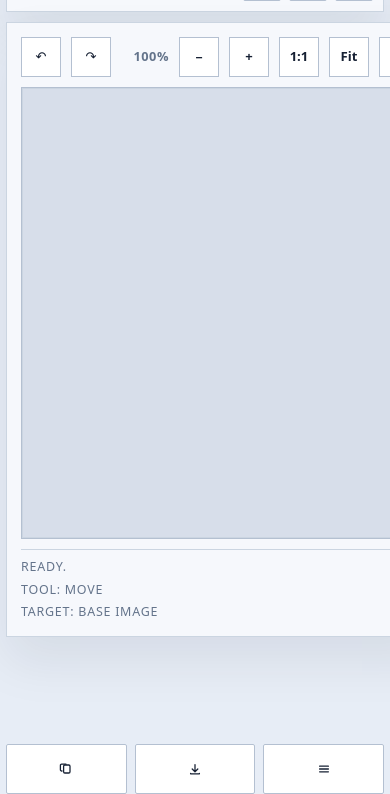
Test: App › collapses the phone inspector behind a tools toggle and expands it on demand
What coordinates should you click on to do the following:
click the button named "show tools"
I would click on:
 (324, 769)
Its box is x1=263 y1=744 x2=384 y2=793.
(page scrolled)
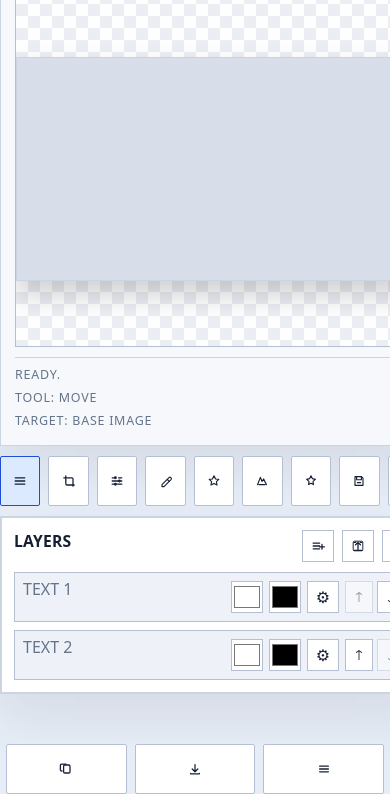
expect the text box named "top text" is shown: met, box x1=23 y1=581 x2=223 y2=613
